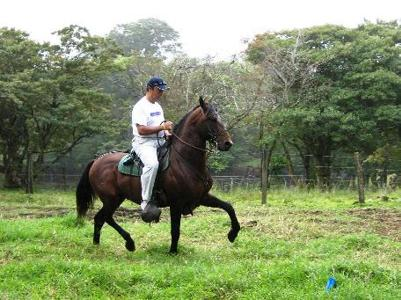person: (132, 78, 176, 223)
